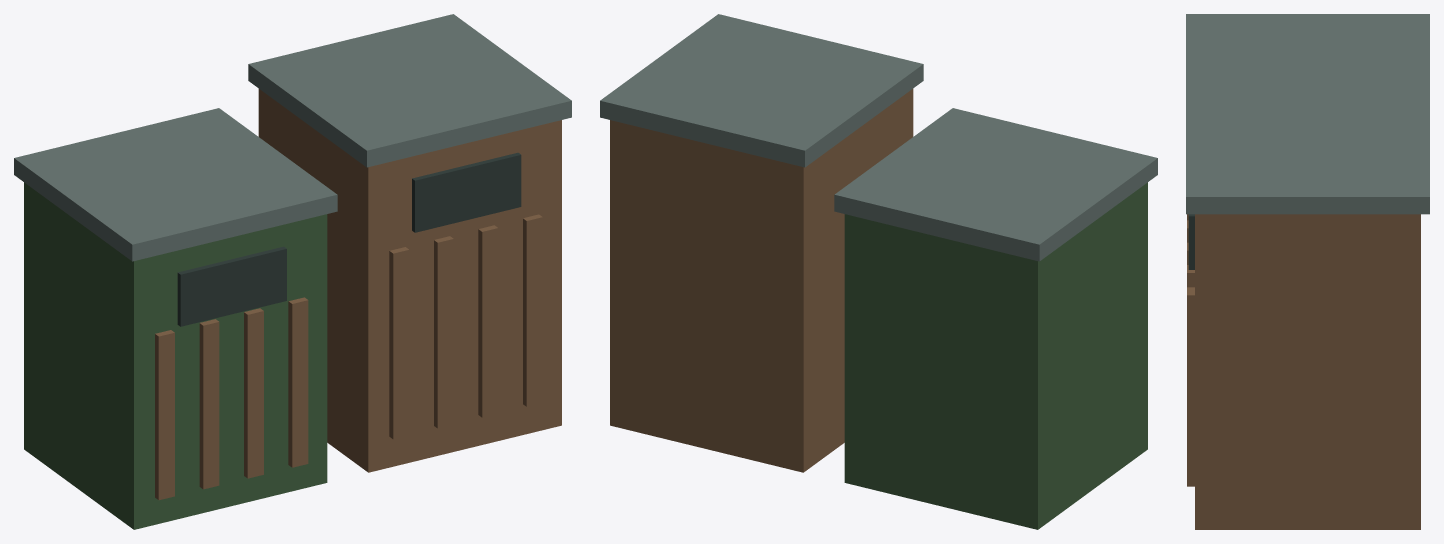
3 renders of one model, left to right at view 1: azimuth 30°, elevation 25°; view 2: azimuth 150°, elevation 25°; view 3: azimuth 270°, elevation 25°, orthographic. The views are drawn at different scales.
Parts seen in each view (by area): view 1: climb-bin-2-0, climb-bin-2-2, 쓰레기통 03, climb-bin-2-1, climb-bin-2-3; view 2: climb-bin-2-0, climb-bin-2-2, climb-bin-2-1, climb-bin-2-3; view 3: climb-bin-2-2, climb-bin-2-3, climb-bin-2-1, 쓰레기통 03.
Boxes of the visible parts, bbox=[...] form: climb-bin-2-0: bbox=[24, 182, 327, 529]; climb-bin-2-2: bbox=[258, 89, 561, 472]; 쓰레기통 03: bbox=[155, 152, 542, 500]; climb-bin-2-1: bbox=[14, 108, 337, 261]; climb-bin-2-3: bbox=[248, 14, 571, 167]; climb-bin-2-0: bbox=[844, 182, 1147, 529]; climb-bin-2-2: bbox=[610, 89, 913, 472]; climb-bin-2-1: bbox=[834, 108, 1157, 261]; climb-bin-2-3: bbox=[600, 14, 923, 167]; climb-bin-2-2: bbox=[1195, 214, 1420, 529]; climb-bin-2-3: bbox=[1186, 94, 1429, 214]; climb-bin-2-1: bbox=[1186, 14, 1429, 93]; 쓰레기통 03: bbox=[1187, 214, 1194, 486].
Size of the model in its own units: 1.5 by 1.06 by 0.7.
